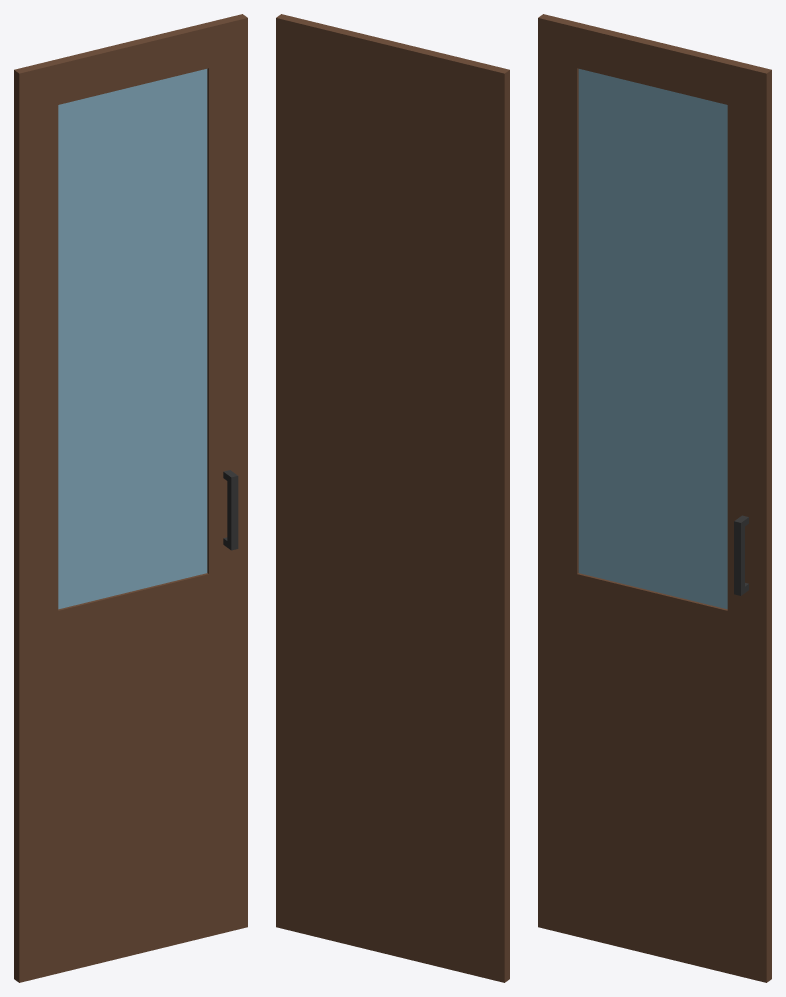
The model's file is Wardrobe1_C3_05.fbx.
The picture shows the model from 3 angles, left to right: view 1: azimuth 30°, elevation 25°; view 2: azimuth 150°, elevation 25°; view 3: azimuth 330°, elevation 25°; orthographic projection.
Visible parts, largest first — view 1: Wardrobe1_C3_05; view 2: Wardrobe1_C3_05; view 3: Wardrobe1_C3_05.
Part boxes in pixels (box(x1,y1,x2,y2)): Wardrobe1_C3_05: box(14, 14, 247, 982); Wardrobe1_C3_05: box(276, 14, 509, 982); Wardrobe1_C3_05: box(538, 14, 771, 982).
Size of the model in its own units: 50 by 190 by 5.02.
